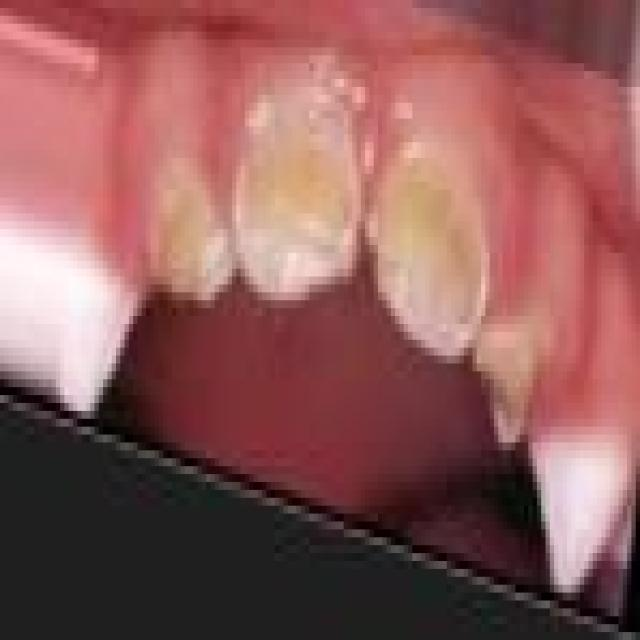caries: (224, 83, 364, 311), (368, 139, 488, 364), (142, 162, 235, 315), (472, 316, 538, 451)
